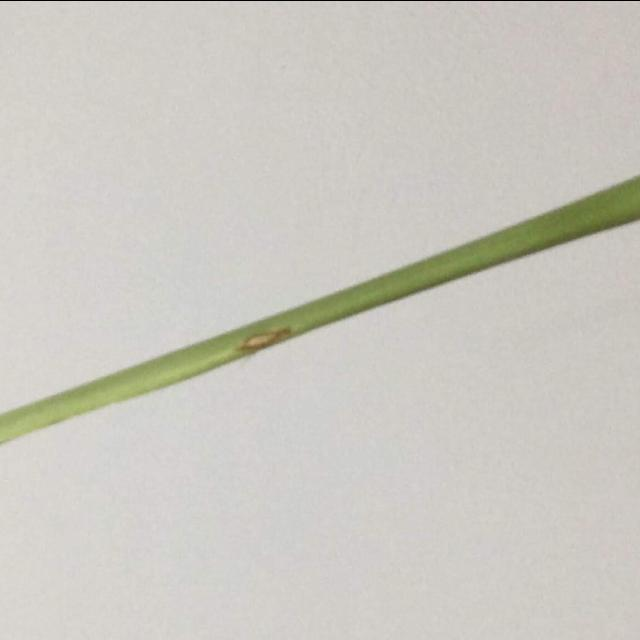Leaf blast: (0, 152, 640, 506)
